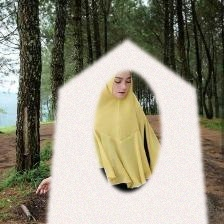Mukena: (42, 49, 212, 224)
